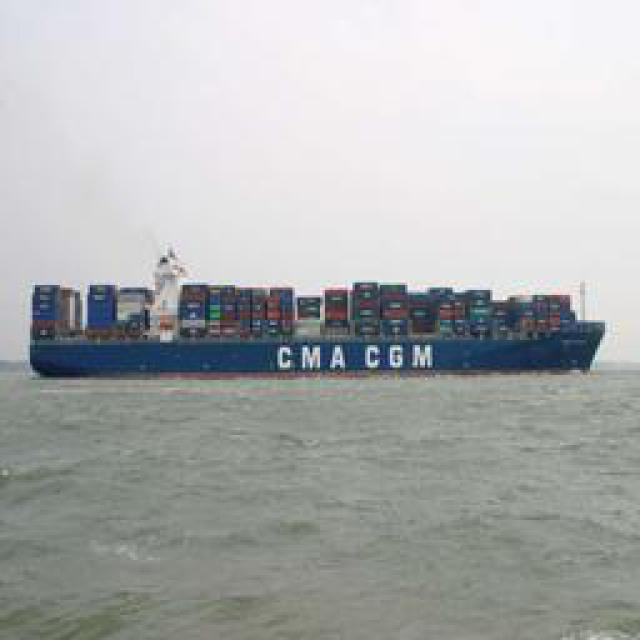Ship: (32, 265, 610, 380)
